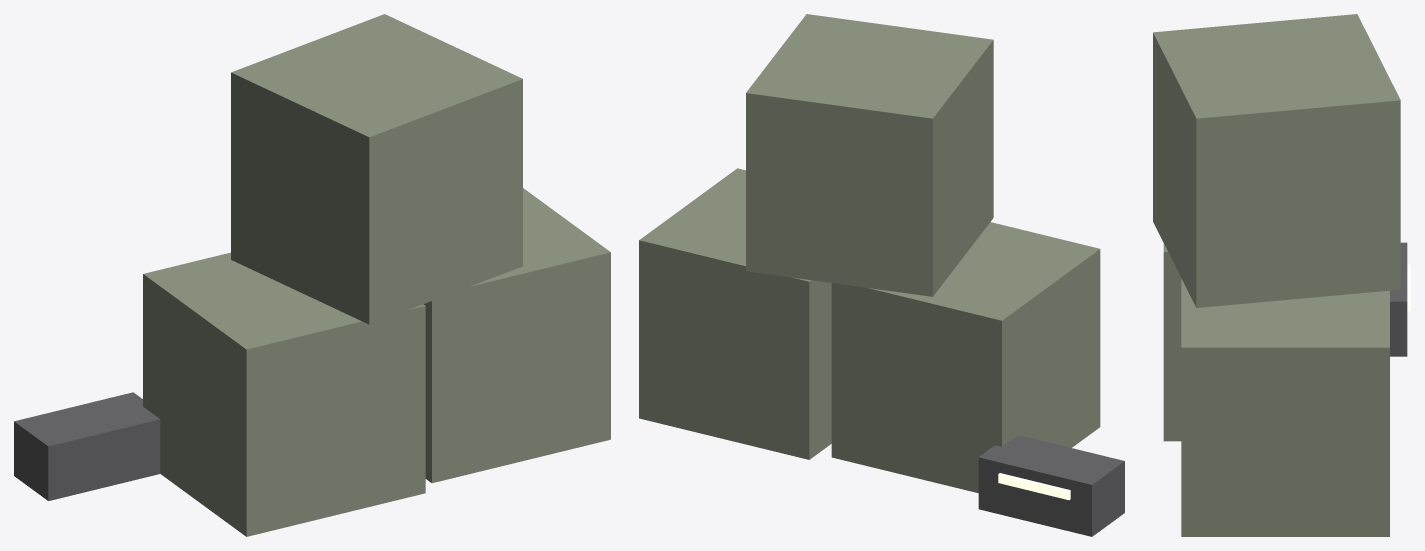
Rendered from CrateStack.fbx.
3 renders of one model, left to right at view 1: azimuth 30°, elevation 25°; view 2: azimuth 150°, elevation 25°; view 3: azimuth 270°, elevation 25°, orthographic. The views are drawn at different scales.
Visible parts, largest first — view 1: CrateStack_Mesh; view 2: CrateStack_Mesh; view 3: CrateStack_Mesh.
Part boxes in pixels (<box>): CrateStack_Mesh: <box>14,14,610,536</box>; CrateStack_Mesh: <box>639,14,1124,536</box>; CrateStack_Mesh: <box>1153,14,1410,536</box>.
Bounding box in the file's own units: 3.25 × 1.48 × 2.4.
